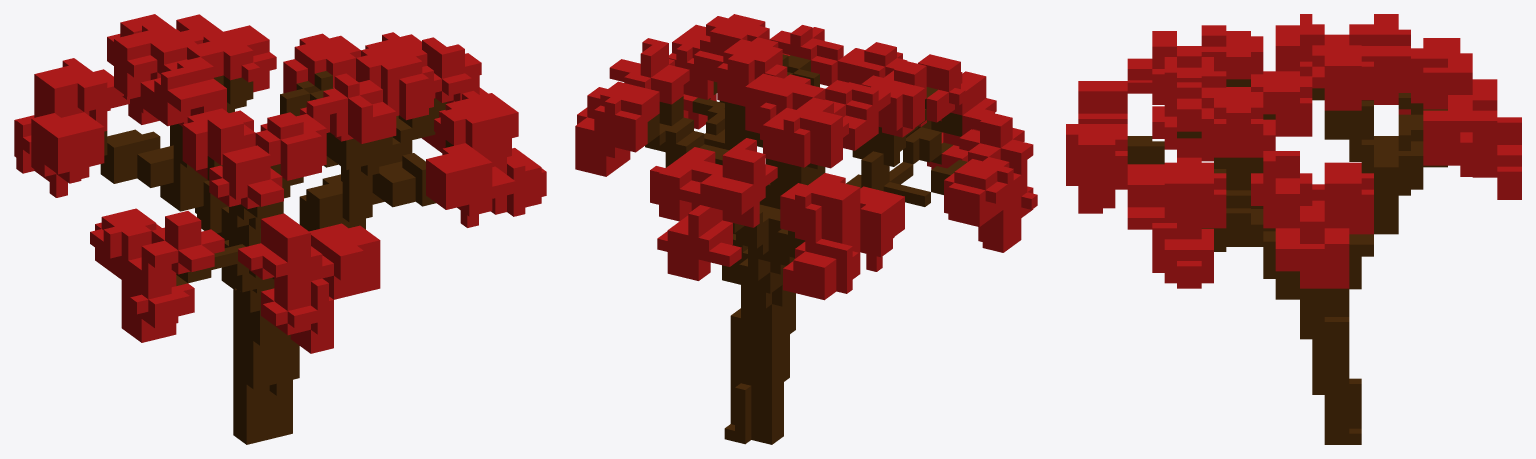
Rendered from Shrub4-1-1.obj.
3 views of the same model, side by side, from view 1: azimuth 30°, elevation 25°; view 2: azimuth 150°, elevation 25°; view 3: azimuth 270°, elevation 25° (orthographic). The views are drawn at different scales.
Parts seen in each view (by area): view 1: 1; view 2: 1; view 3: 1.
Boxes of the visible parts, <box> form: 1: <box>14,14,546,444</box>; 1: <box>575,14,1037,444</box>; 1: <box>1066,14,1521,444</box>.
Bounding box in the file's own units: 3.7 × 3.3 × 3.7.
1 material, 1 textured.
